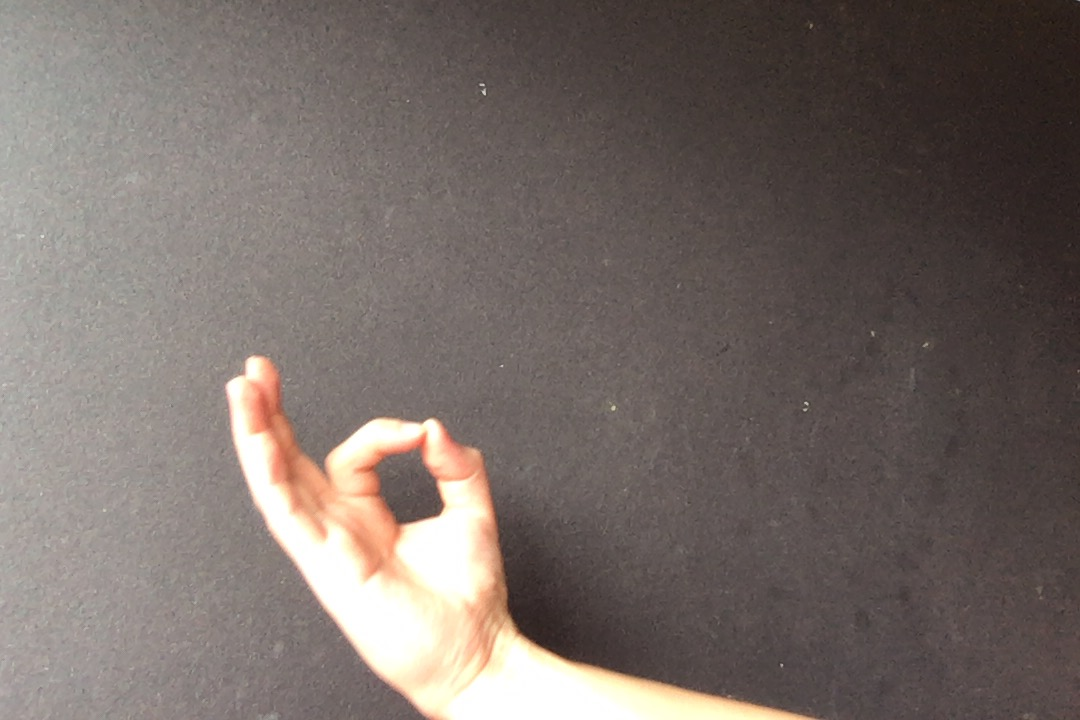oksign: (211, 345, 519, 701)
